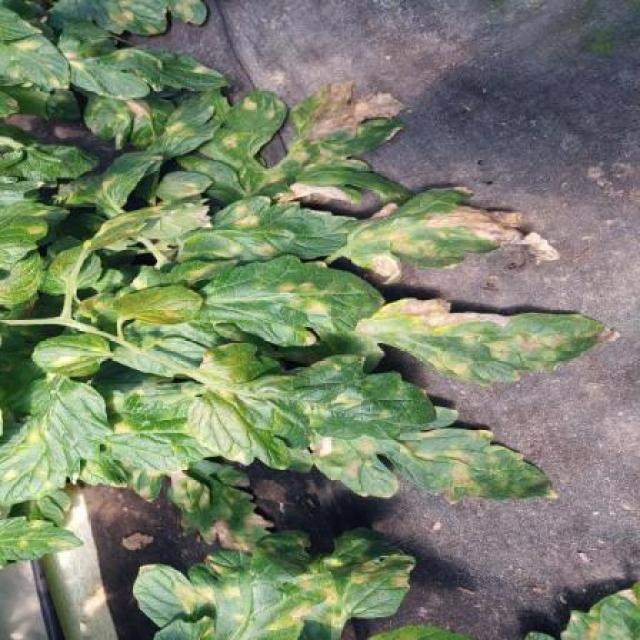Leaf Mold: (131, 525, 417, 640), (185, 343, 438, 470), (176, 78, 407, 203), (317, 298, 620, 388), (309, 406, 558, 503), (334, 186, 559, 286), (196, 255, 385, 346), (0, 373, 113, 506), (175, 195, 362, 265), (0, 520, 91, 567), (30, 330, 114, 379)
